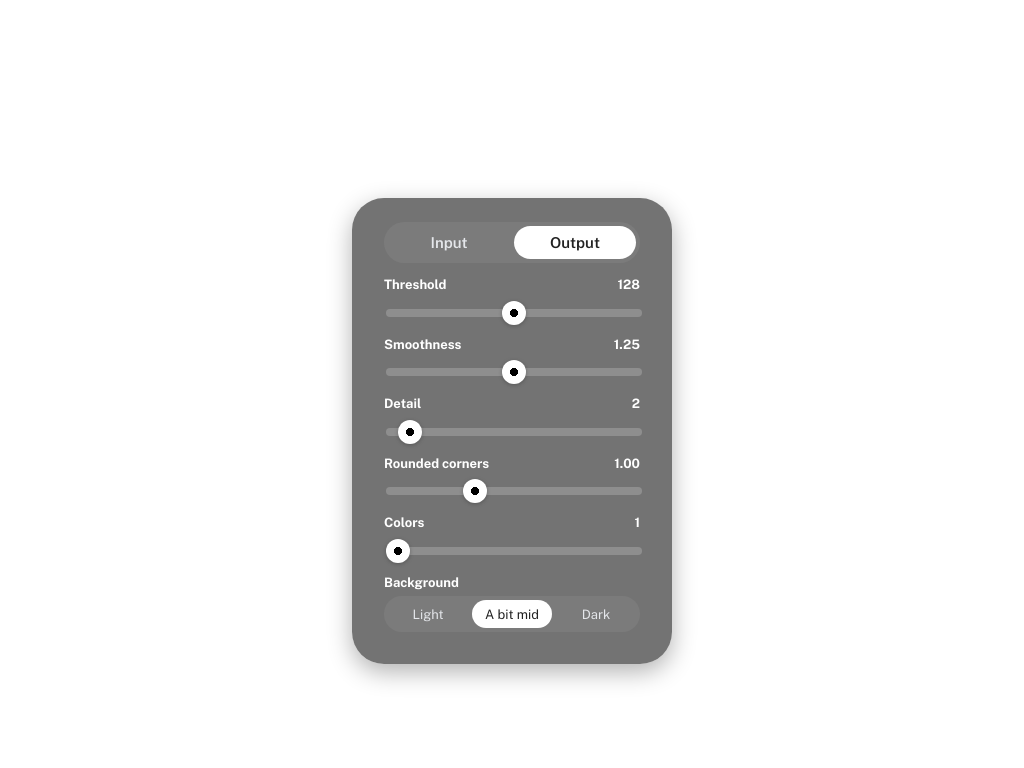
it: SettingsPanel › shows Output sliders when Output tab is selected
The width and height of the screenshot is (1024, 768).
Click the tab "Input".
click(449, 243)  # box [388,226,510,259]
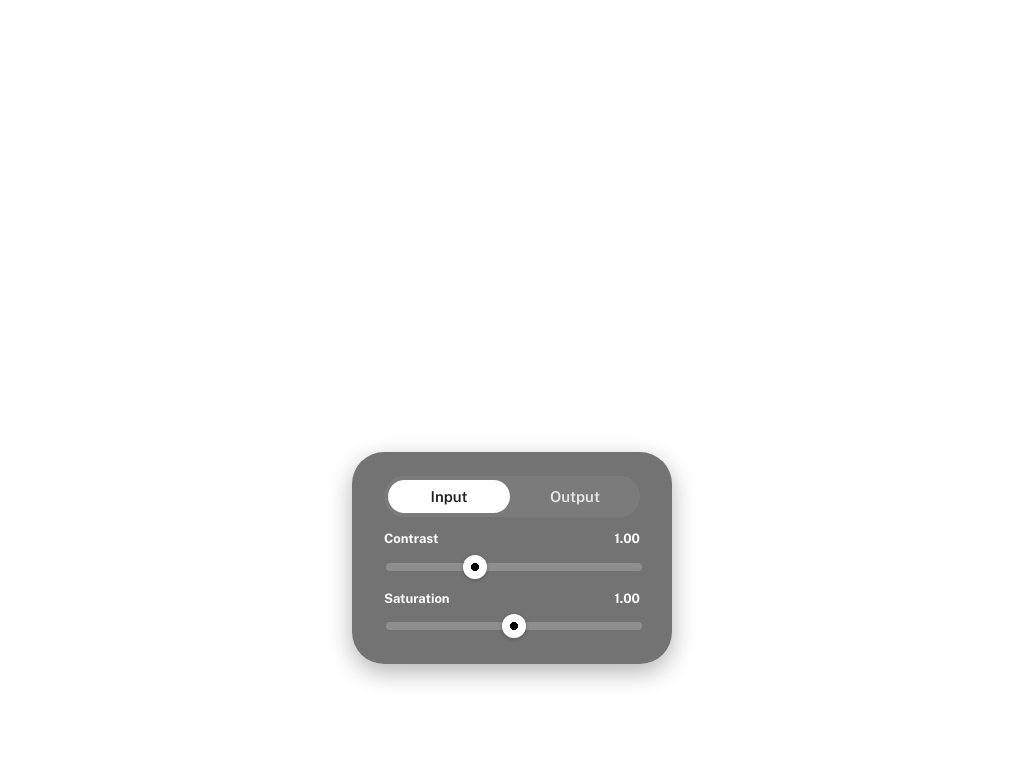
Click the tab "Output".
click(575, 496)  # box [514,480,636,513]
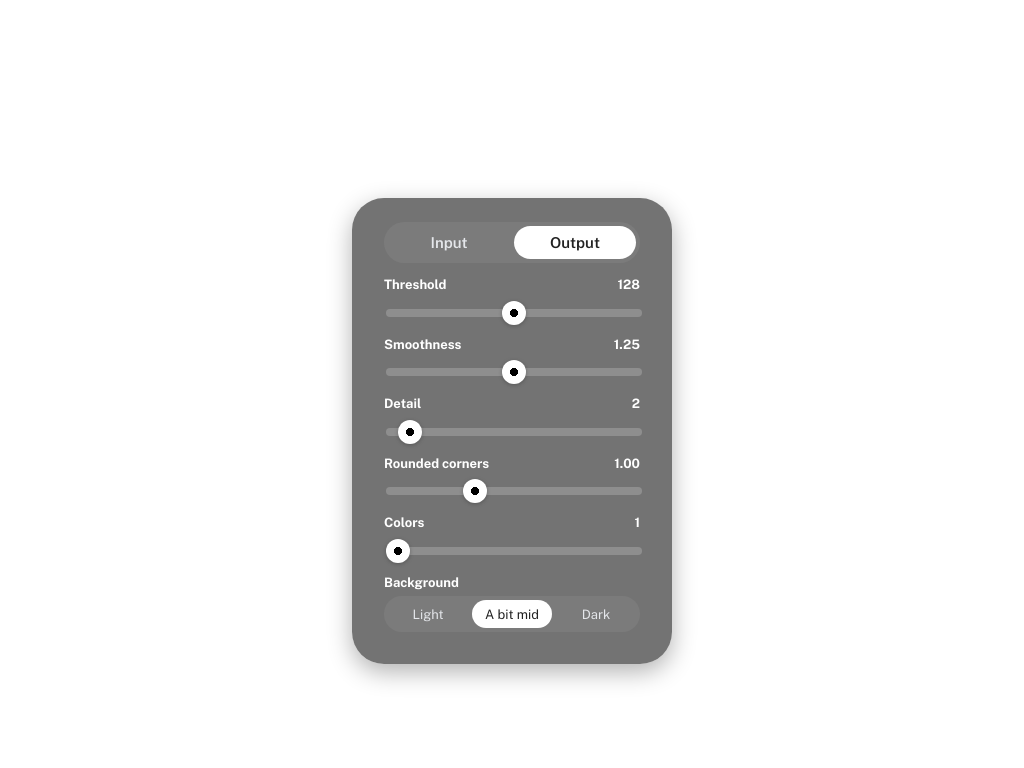
Now the slider labelled "Threshold" is shown, box [386,309,642,317]
Now the element named "Canvas background" is shown, box [384,596,640,632]
